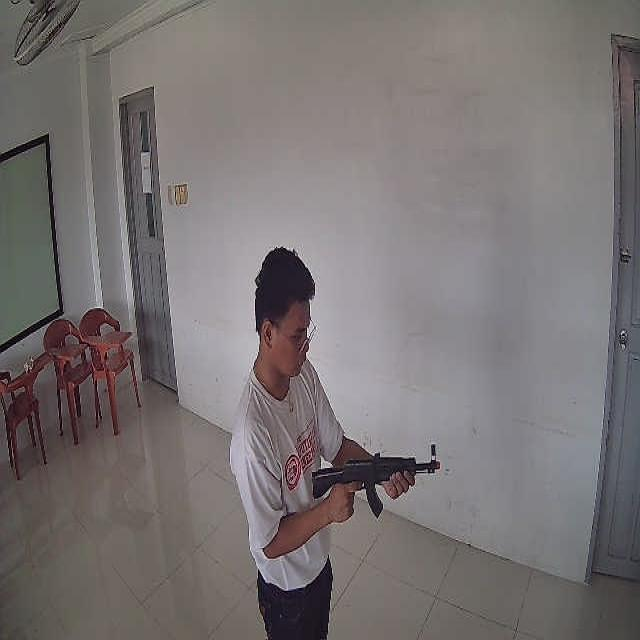rifle: (312, 444, 440, 519)
